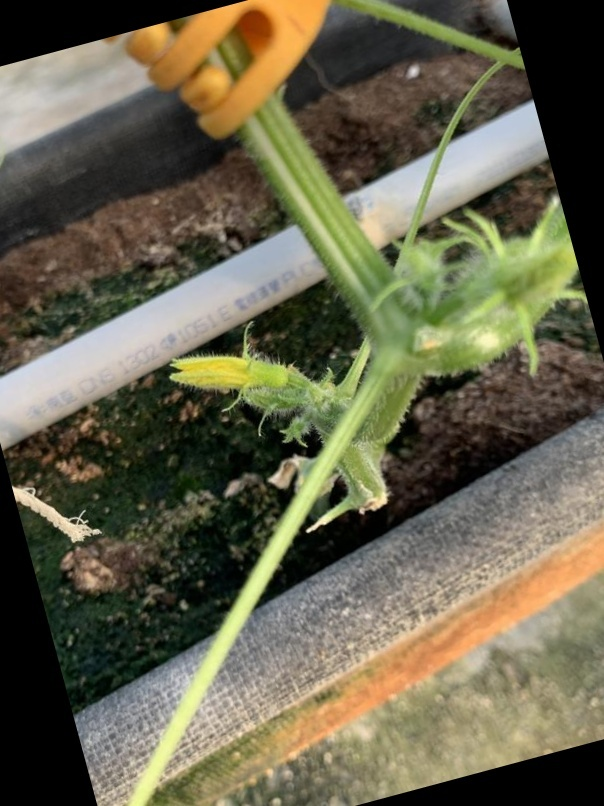bud: (167, 350, 310, 410)
